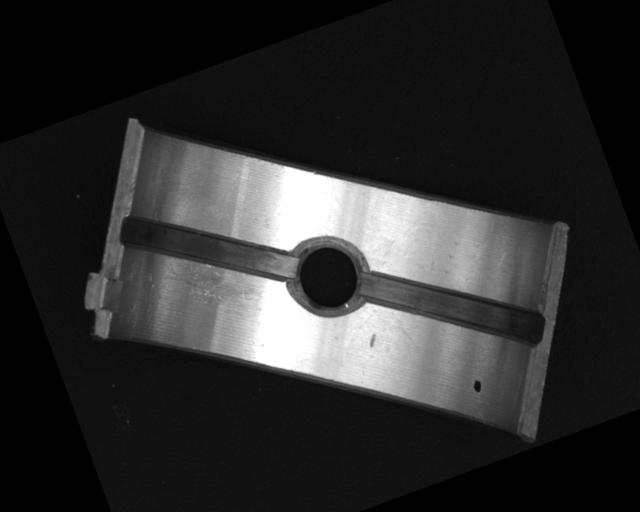blot: (470, 377, 484, 394)
bruise: (364, 332, 379, 349)
gap: (360, 224, 544, 390), (116, 165, 300, 326)
hole: (279, 225, 378, 327)
scratch: (160, 235, 266, 327)
